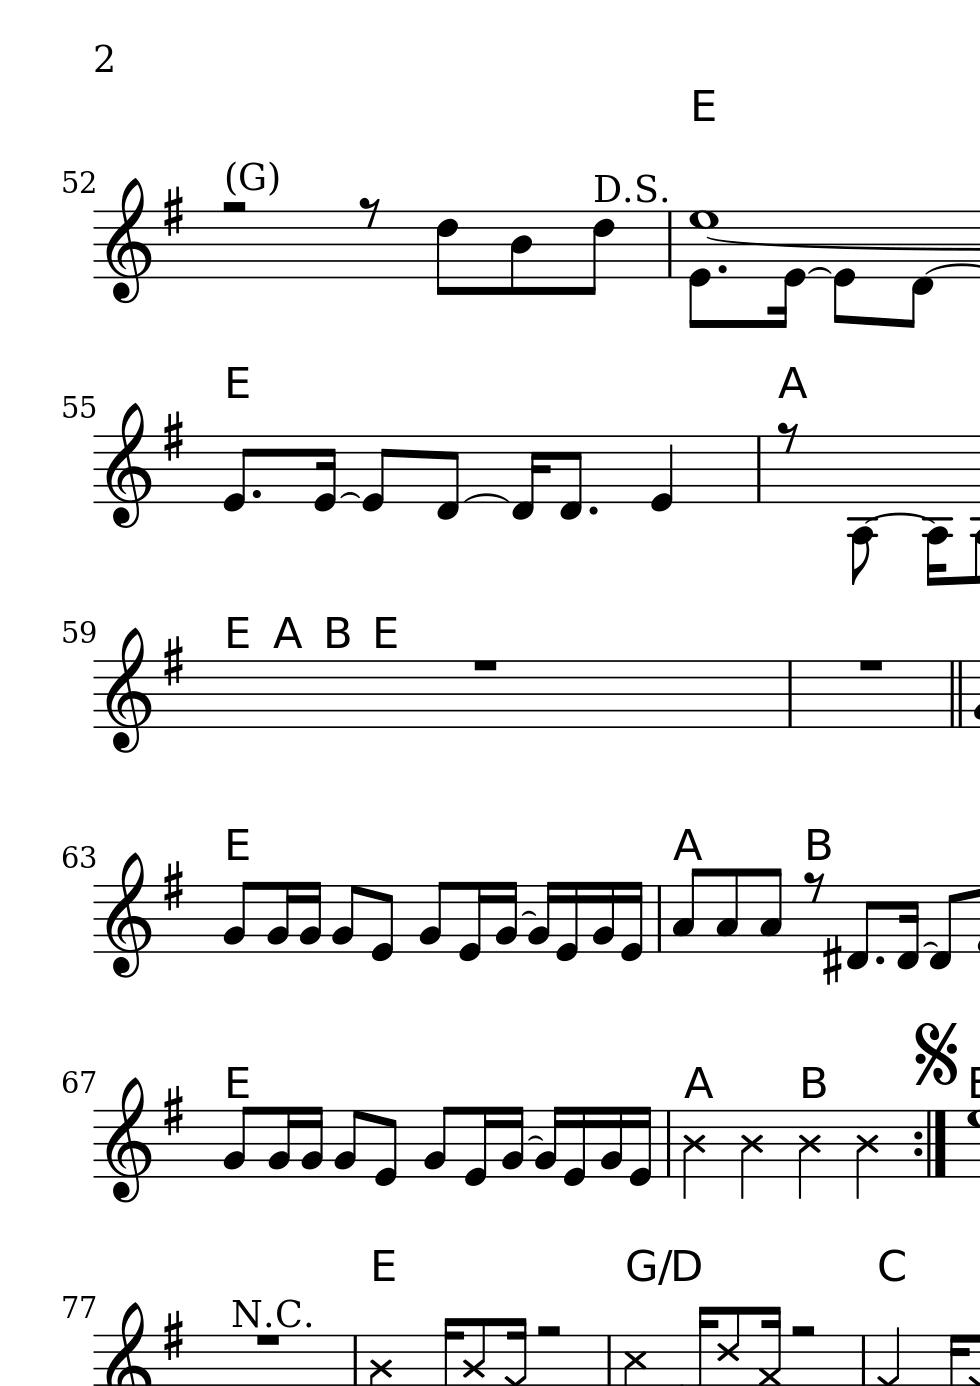16_-1: (511, 434, 548, 521), (894, 882, 920, 973)
16_0: (767, 206, 805, 331), (455, 879, 489, 964), (461, 1105, 494, 1189), (553, 878, 581, 964), (311, 433, 338, 514), (618, 880, 645, 964), (561, 1104, 587, 1188), (627, 1104, 652, 1187)
16_2: (525, 878, 556, 954), (532, 1104, 563, 1179), (265, 880, 295, 954), (590, 880, 617, 957), (498, 1104, 525, 1179), (493, 879, 518, 955), (298, 879, 322, 954), (599, 1105, 624, 1180), (299, 1104, 323, 1178)
2: (92, 42, 115, 74), (77, 169, 97, 196)
3: (78, 844, 97, 871)
4_0: (649, 433, 675, 514)
5: (77, 392, 97, 421), (60, 392, 78, 420), (60, 168, 77, 196), (60, 617, 77, 645)
6: (62, 1068, 78, 1096), (62, 843, 78, 871)
7: (78, 1293, 97, 1321), (62, 1292, 78, 1321), (80, 1068, 97, 1096)
8_-1: (903, 207, 933, 330), (846, 884, 877, 973), (433, 434, 462, 522), (557, 434, 584, 522)
8_-4: (921, 432, 953, 590), (846, 434, 877, 585)
8_0: (358, 433, 393, 514), (832, 208, 856, 324), (928, 884, 959, 972), (220, 434, 253, 513), (368, 883, 396, 964), (372, 1109, 399, 1190)
8_2: (221, 879, 253, 954), (416, 879, 449, 954), (221, 1105, 253, 1179), (421, 1104, 453, 1179), (329, 883, 361, 954), (267, 1105, 297, 1180), (332, 1108, 363, 1179)
8_3: (671, 867, 704, 955), (713, 866, 741, 955), (757, 866, 782, 954)
8_4: (507, 209, 533, 298)
8_6: (580, 209, 615, 299), (433, 208, 459, 299)
9: (78, 618, 97, 646)
DS: (592, 169, 670, 205)
Double_barline: (944, 660, 967, 729)
Gclef: (103, 177, 154, 305), (104, 401, 154, 530), (103, 850, 153, 979), (103, 1077, 153, 1205), (103, 626, 152, 754)
Rests1: (468, 655, 502, 676), (251, 1331, 284, 1349), (855, 656, 885, 673)
Rests2: (216, 197, 251, 217), (533, 1321, 564, 1343), (788, 1321, 819, 1343)
Rests8: (802, 870, 827, 903), (357, 192, 382, 227), (776, 419, 800, 453)
RightRepeatSign: (910, 1110, 949, 1178)
Segno: (908, 1021, 961, 1084)
Sharp: (158, 409, 188, 464), (159, 859, 188, 914), (159, 635, 187, 691), (160, 185, 188, 240), (160, 1309, 188, 1364), (160, 1084, 187, 1140), (820, 934, 842, 986)
Single_barline: (661, 212, 679, 278), (660, 1110, 677, 1178), (750, 437, 767, 501), (781, 661, 797, 729), (650, 885, 666, 953)
Slur: (466, 494, 505, 503), (806, 267, 833, 276), (337, 492, 361, 501), (519, 910, 539, 918), (526, 1135, 545, 1143)
dot: (715, 262, 731, 277), (587, 503, 600, 517), (872, 953, 886, 967), (249, 487, 262, 501)
